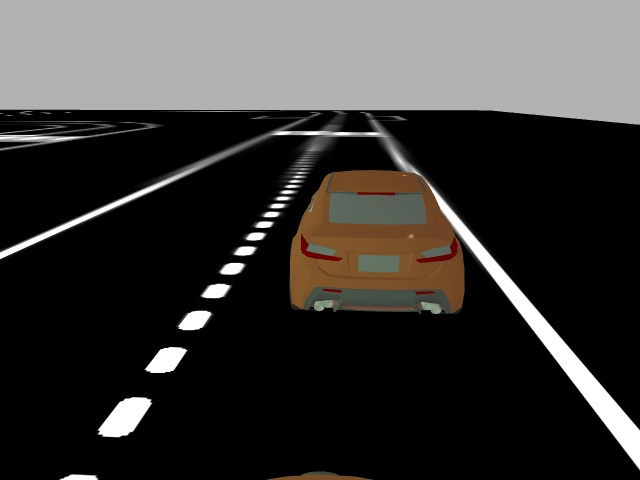obstacle_car: (286, 169, 466, 315)
